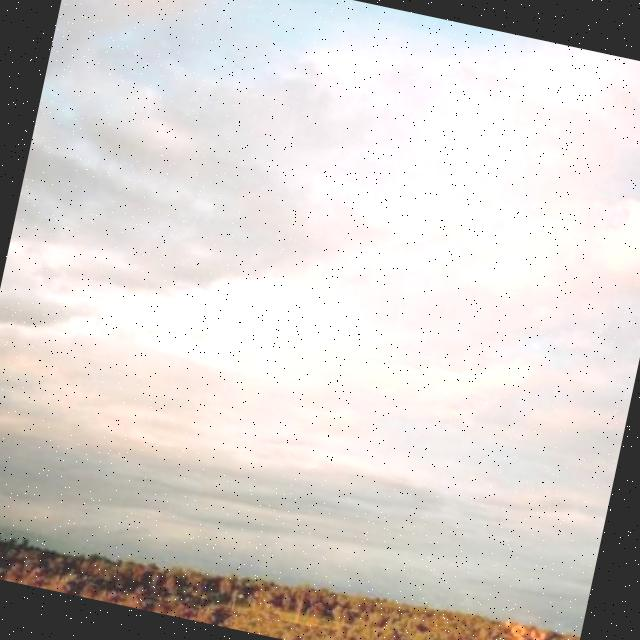Sc: (1, 1, 640, 551)
